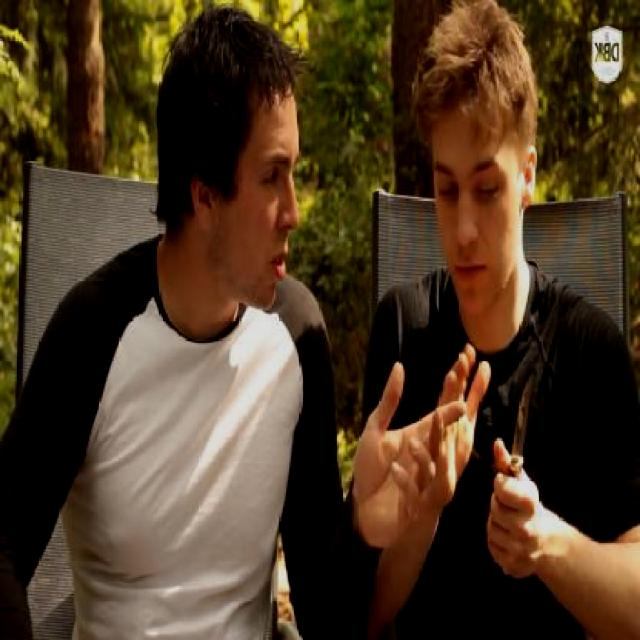knife: (483, 335, 552, 543)
